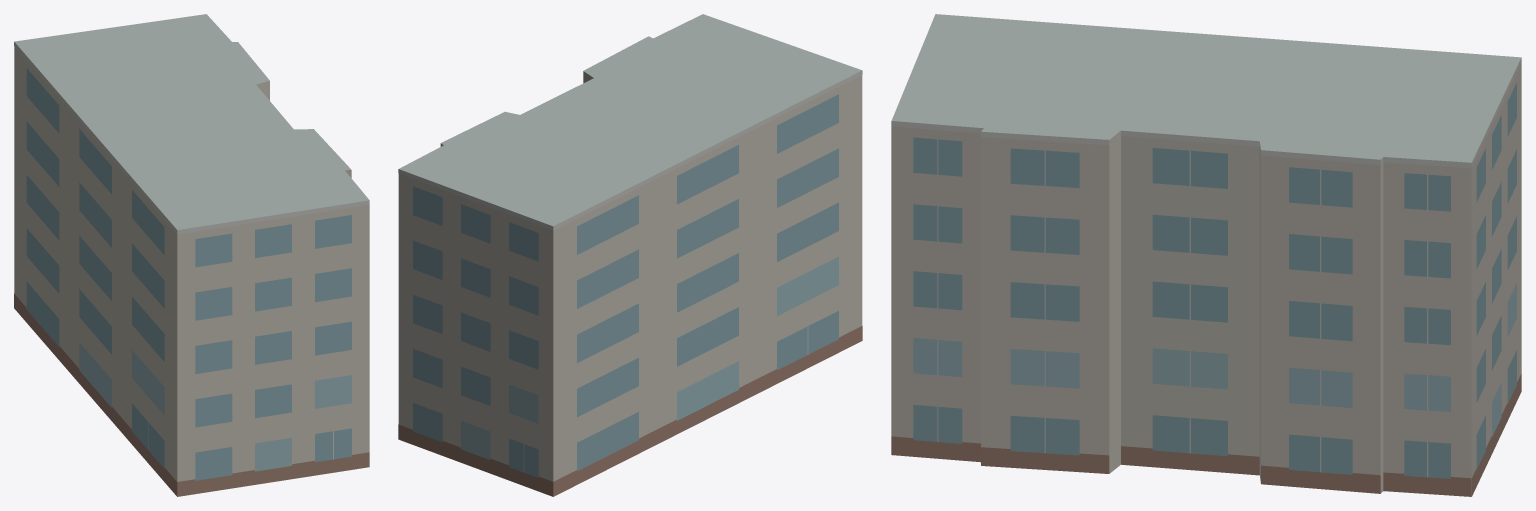
The model's file is survey-upis-32588200.glb.
3 views of the same model, side by side, from view 1: azimuth 30°, elevation 25°; view 2: azimuth 150°, elevation 25°; view 3: azimuth 270°, elevation 25° (orthographic). The views are drawn at different scales.
Parts seen in each view (by area): view 1: survey-upis-32588200.tmp; view 2: survey-upis-32588200.tmp; view 3: survey-upis-32588200.tmp.
Part boxes in pixels (x1,y1,x2,y2): survey-upis-32588200.tmp: [14, 14, 369, 496]; survey-upis-32588200.tmp: [398, 14, 862, 496]; survey-upis-32588200.tmp: [891, 14, 1521, 496].
Bounding box in the file's own units: 14.33 × 15 × 25.65.
